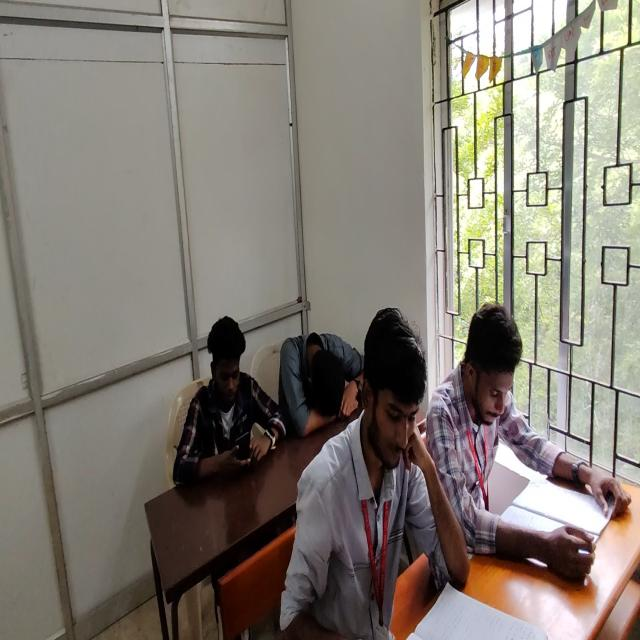reading: (430, 299, 638, 585), (282, 309, 456, 640)
sleeping: (282, 330, 364, 441)
using_mobile: (174, 311, 293, 485)
